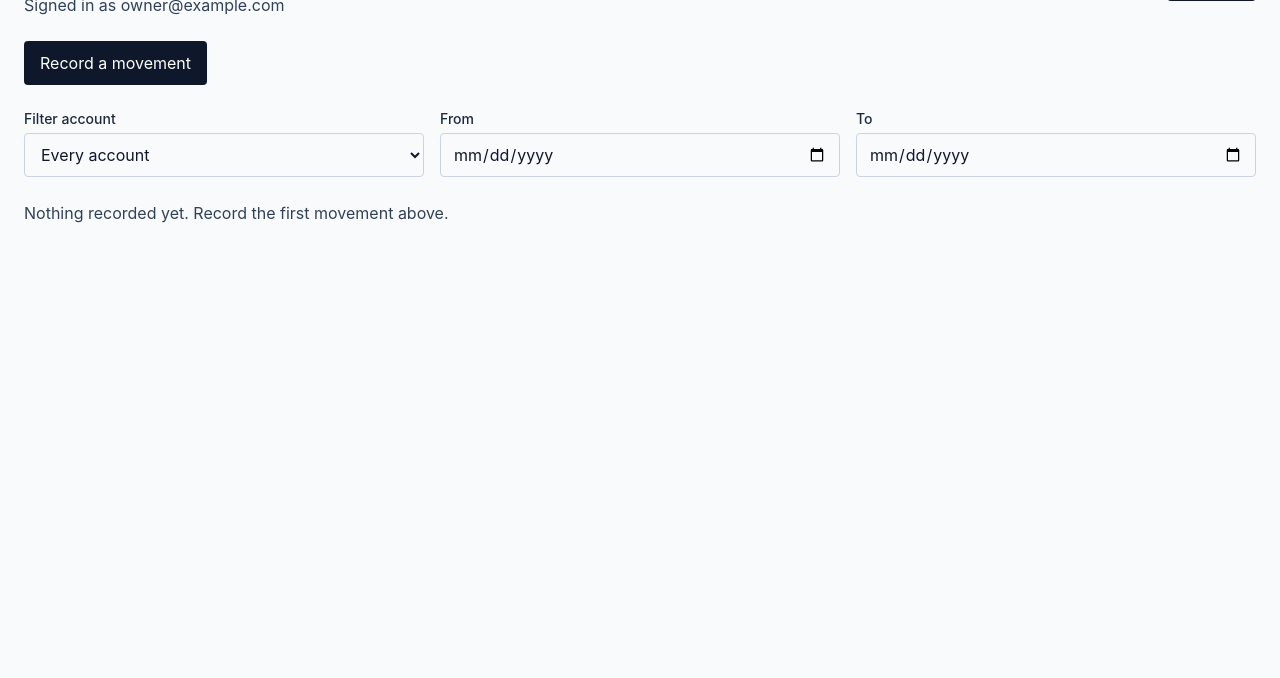
Test case: TransactionsPage › shows what the server said when a save is refused
The image size is (1280, 678).
Expected: the text "Nothing recorded yet. Record the first movement above." is shown, [24,203,449,223]
Click the button "Record a movement". click: (116, 63)
box: [24,41,207,85]
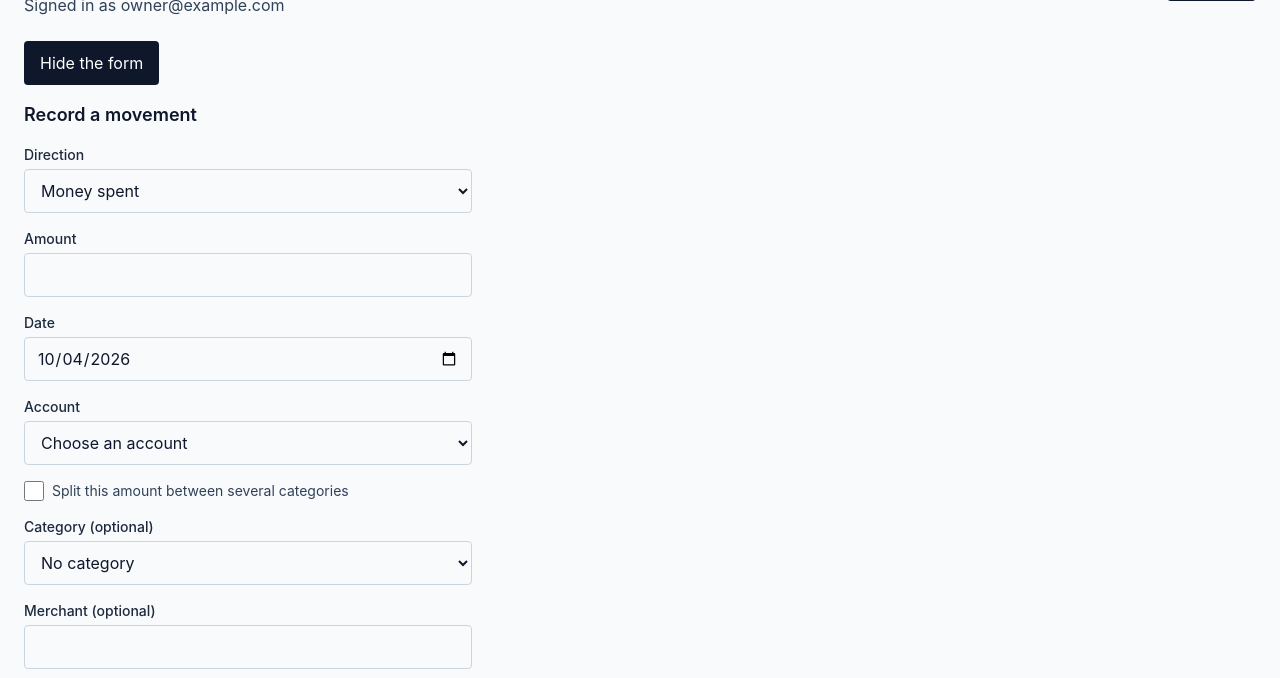
Type "500" into the field labelled "Amount". click: (248, 275)
box: [24,253,472,297]
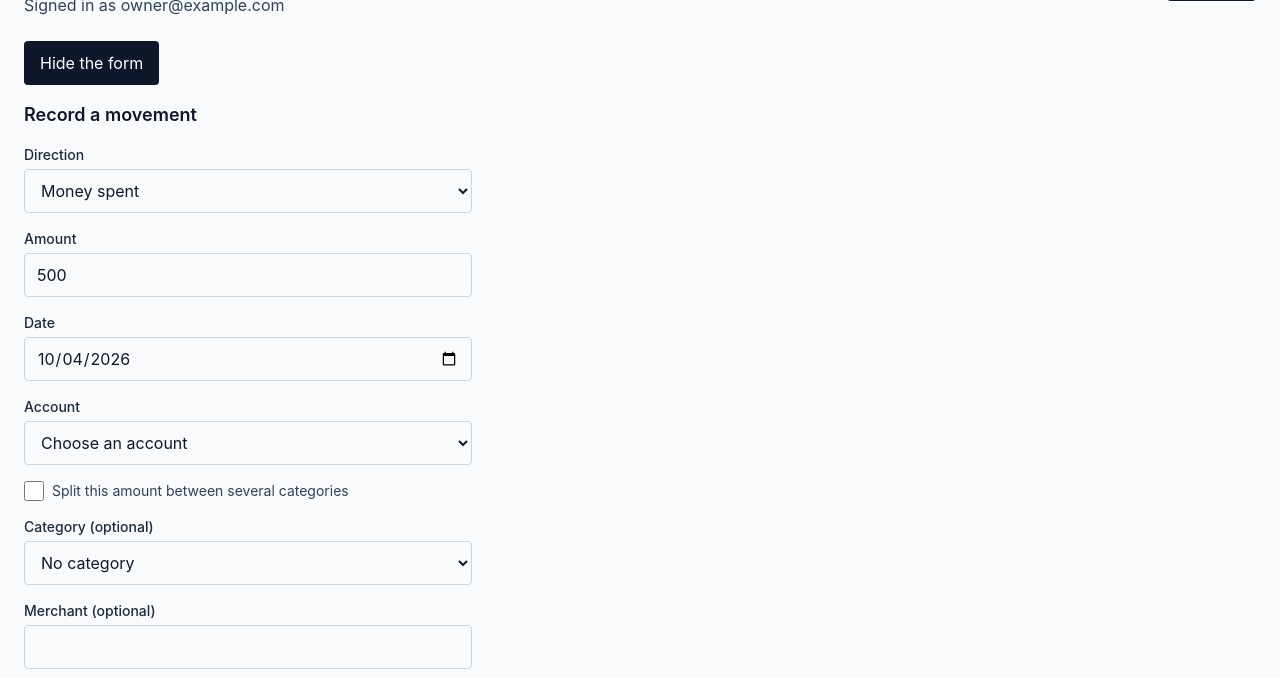
Select "SBI" in the dropdown labelled "Account". click: (248, 443)
box: [24,421,472,465]
(page scrolled)
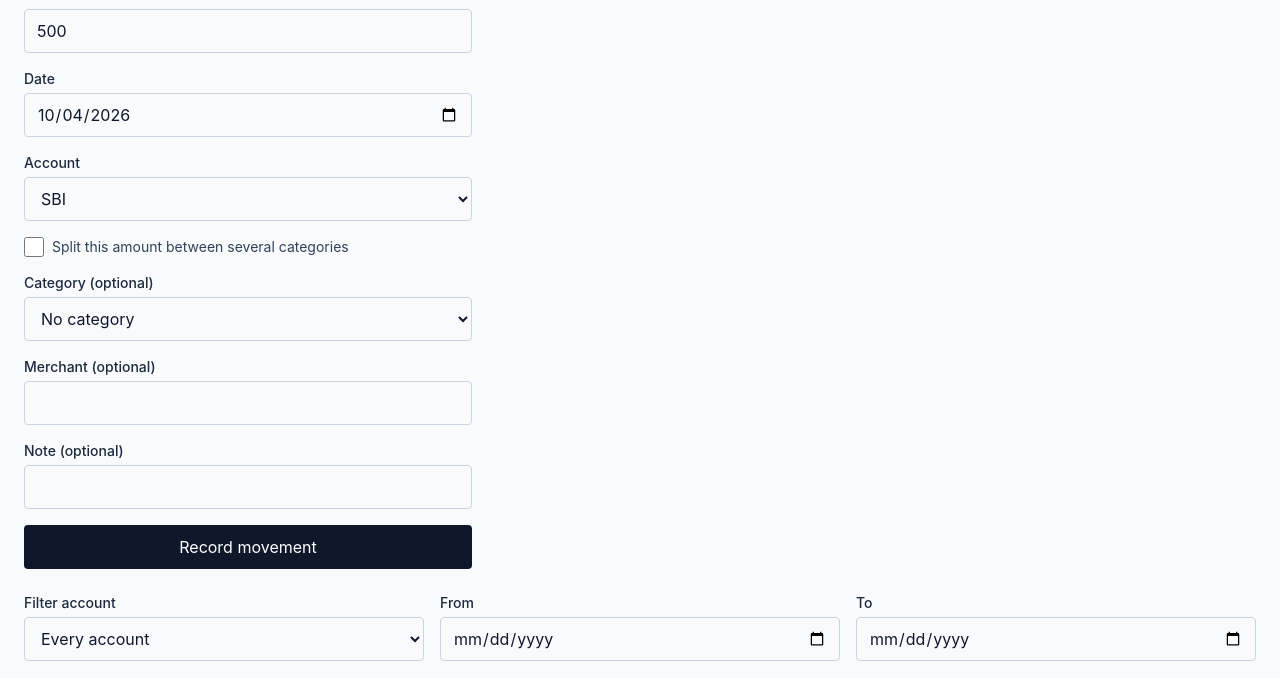
Click the button "Record movement". click: (248, 547)
box: [24,525,472,569]
(page scrolled)
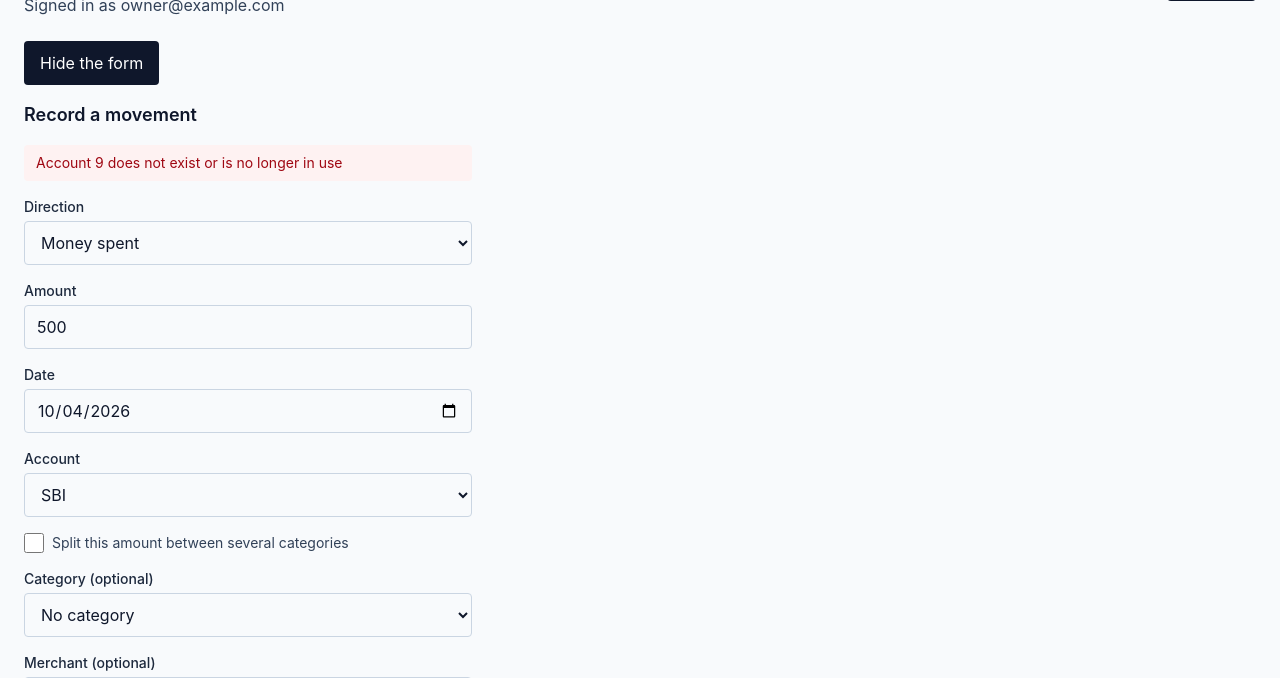
Result: the message reads "Account 9 does not exist or is no longer in use" at [36,154,342,171]
